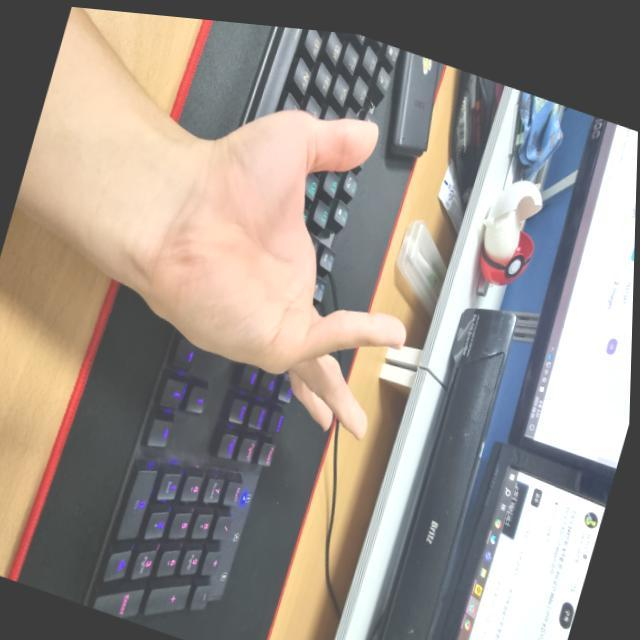keyboard-with-hands: (87, 26, 400, 621)
